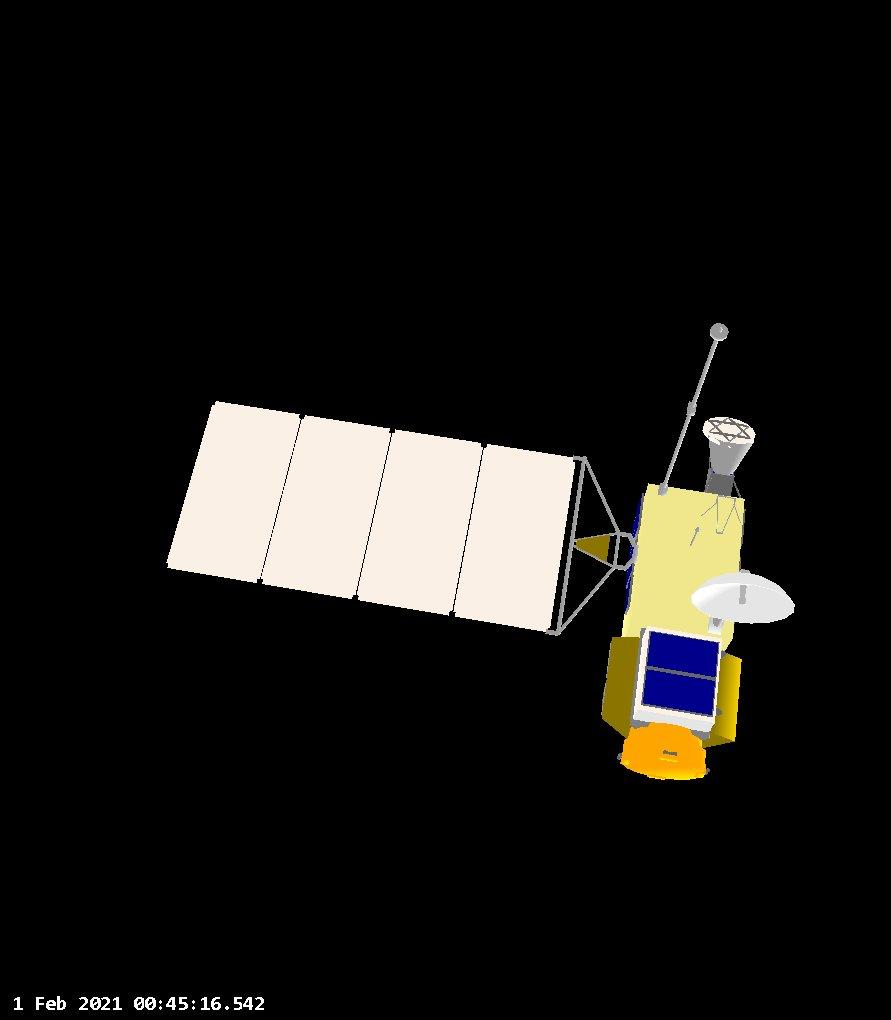antenna: (653, 314, 736, 494), (685, 567, 800, 628), (699, 411, 759, 503)
body: (618, 480, 749, 651)
solar: (163, 394, 639, 637), (630, 622, 726, 735)
thruster: (612, 717, 715, 787)
